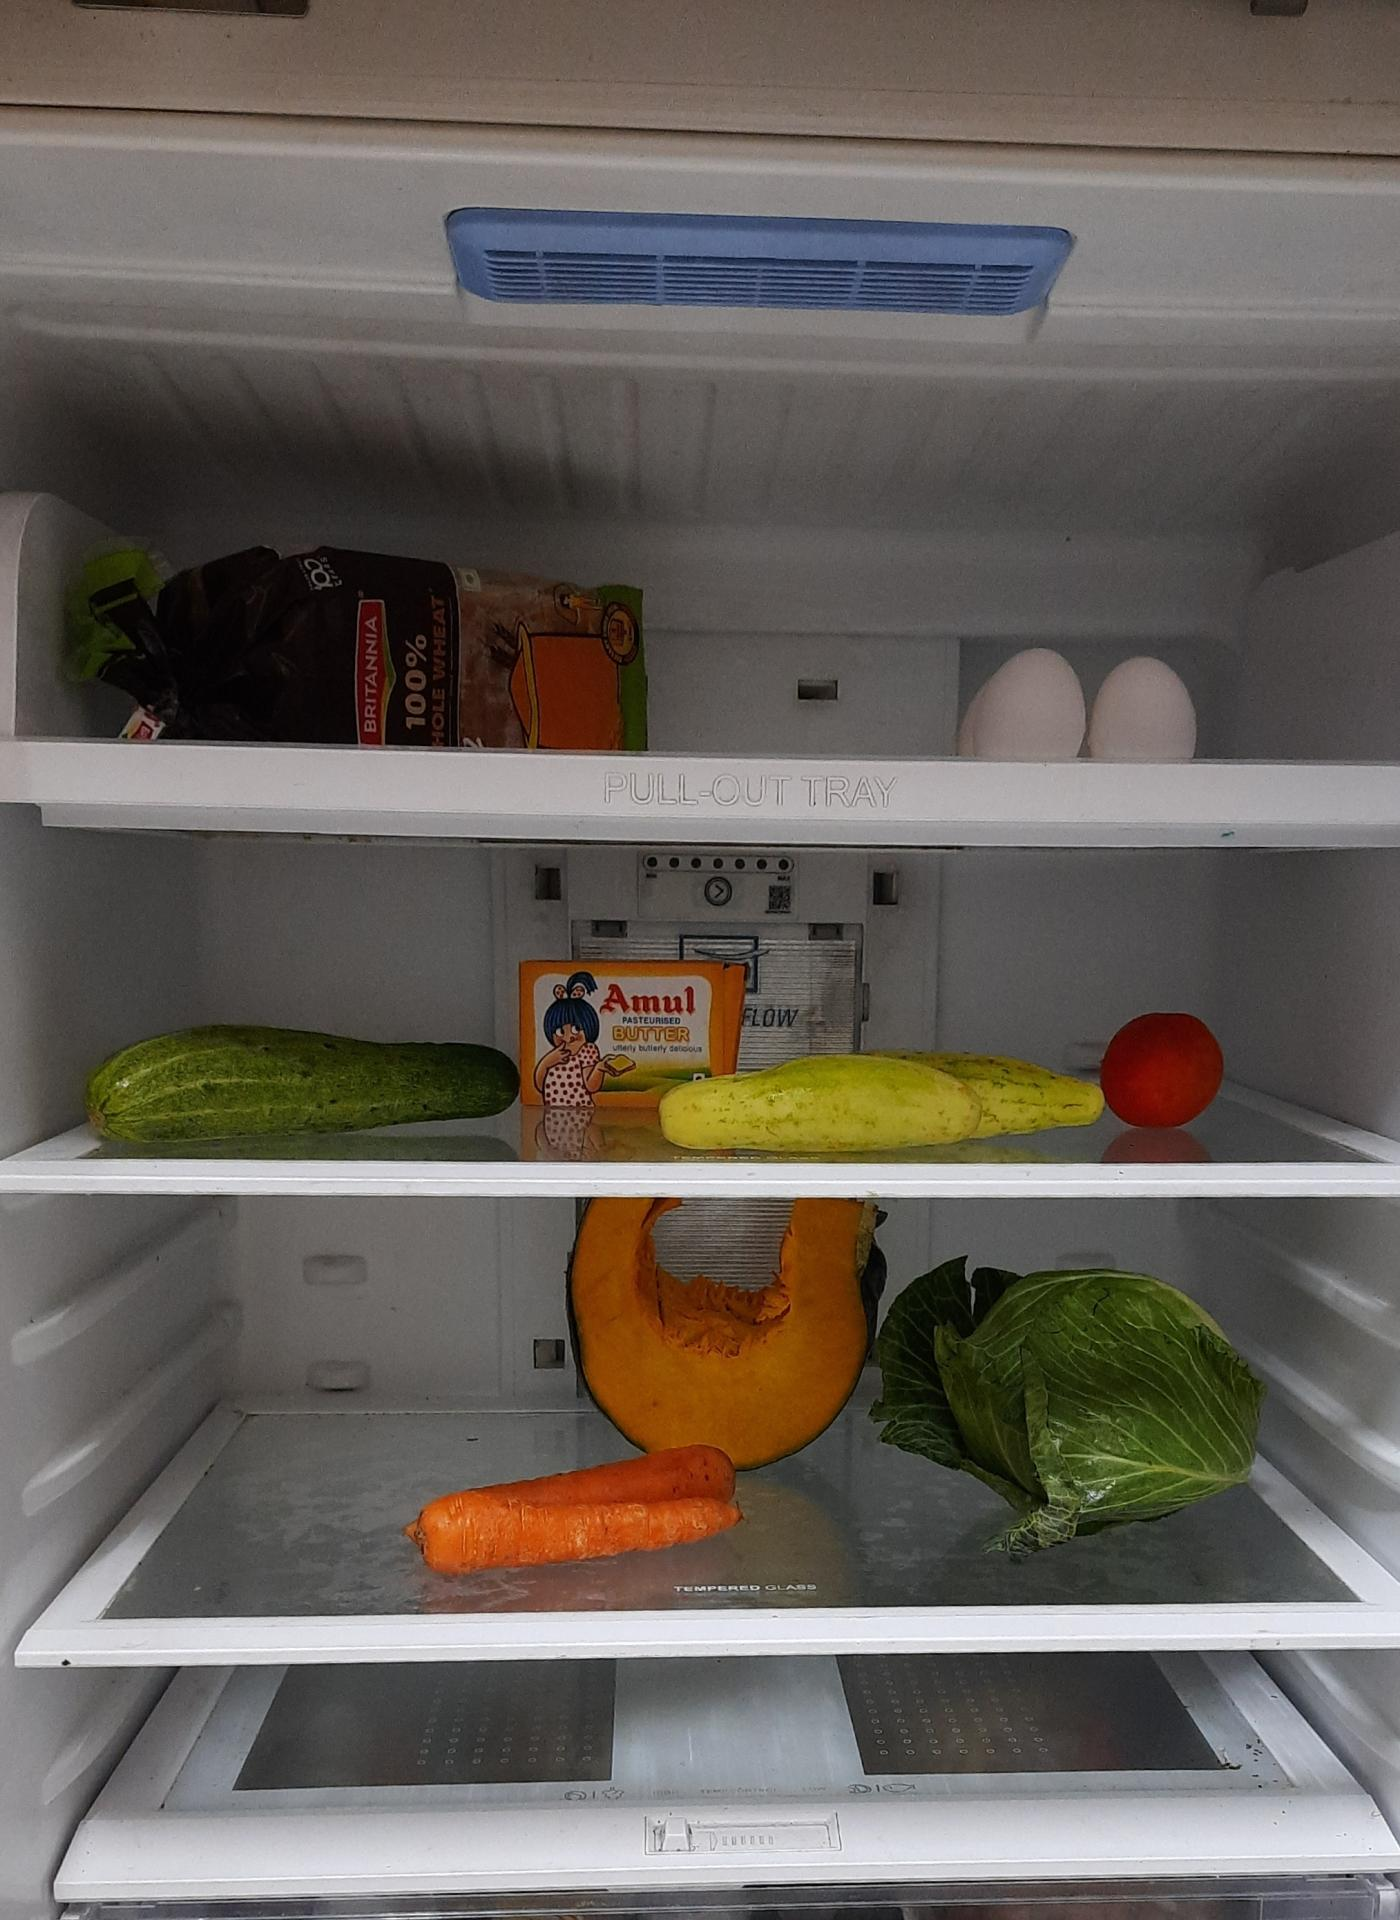bread: (109, 540, 653, 747)
butter: (520, 966, 751, 1091)
cabbage: (875, 1254, 1269, 1561)
carrots: (403, 1447, 742, 1574)
cucumber: (81, 1026, 528, 1155), (652, 1046, 1105, 1151)
egg: (953, 644, 1196, 760)
pumpkin: (574, 1196, 893, 1473)
tomato: (1099, 1009, 1229, 1130)
